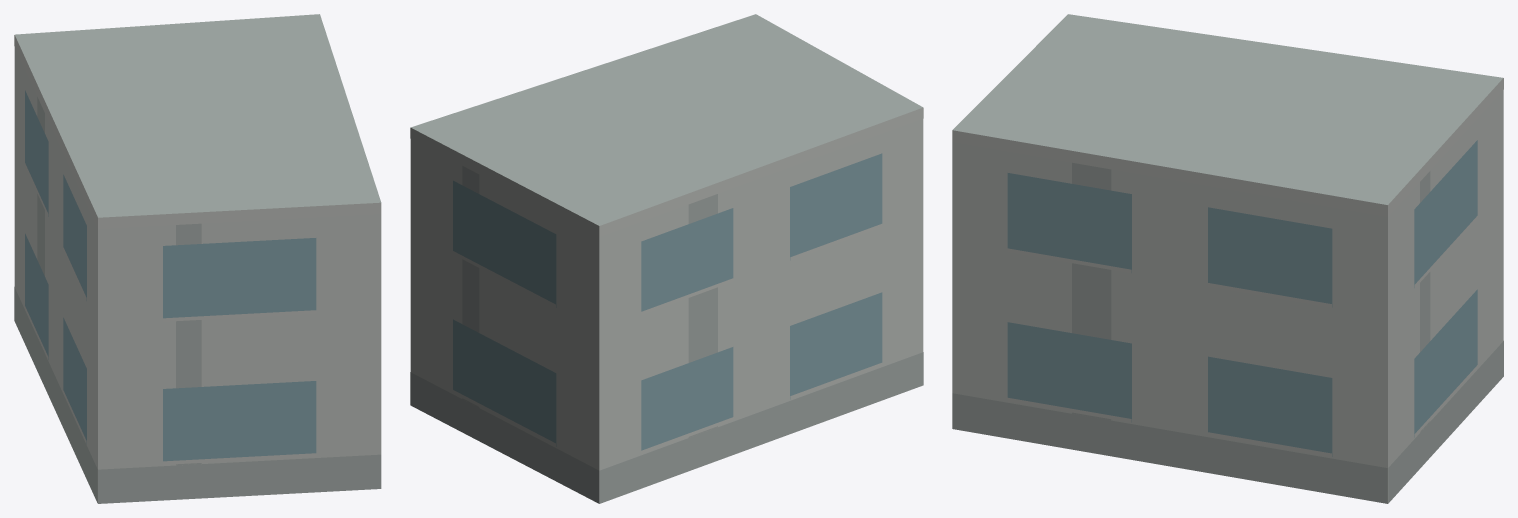
Rendered from survey-upis-32903388.glb.
3 renders of one model, left to right at view 1: azimuth 30°, elevation 25°; view 2: azimuth 150°, elevation 25°; view 3: azimuth 270°, elevation 25°, orthographic. The views are drawn at different scales.
Parts seen in each view (by area): view 1: survey-upis-32903388.tmp; view 2: survey-upis-32903388.tmp; view 3: survey-upis-32903388.tmp.
Part boxes in pixels (left/top/right/bottom): survey-upis-32903388.tmp: left=14, top=14, right=381, bottom=503; survey-upis-32903388.tmp: left=410, top=14, right=923, bottom=503; survey-upis-32903388.tmp: left=952, top=14, right=1503, bottom=503.
Size of the model in its own units: 8.38 by 6.1 by 10.21.
